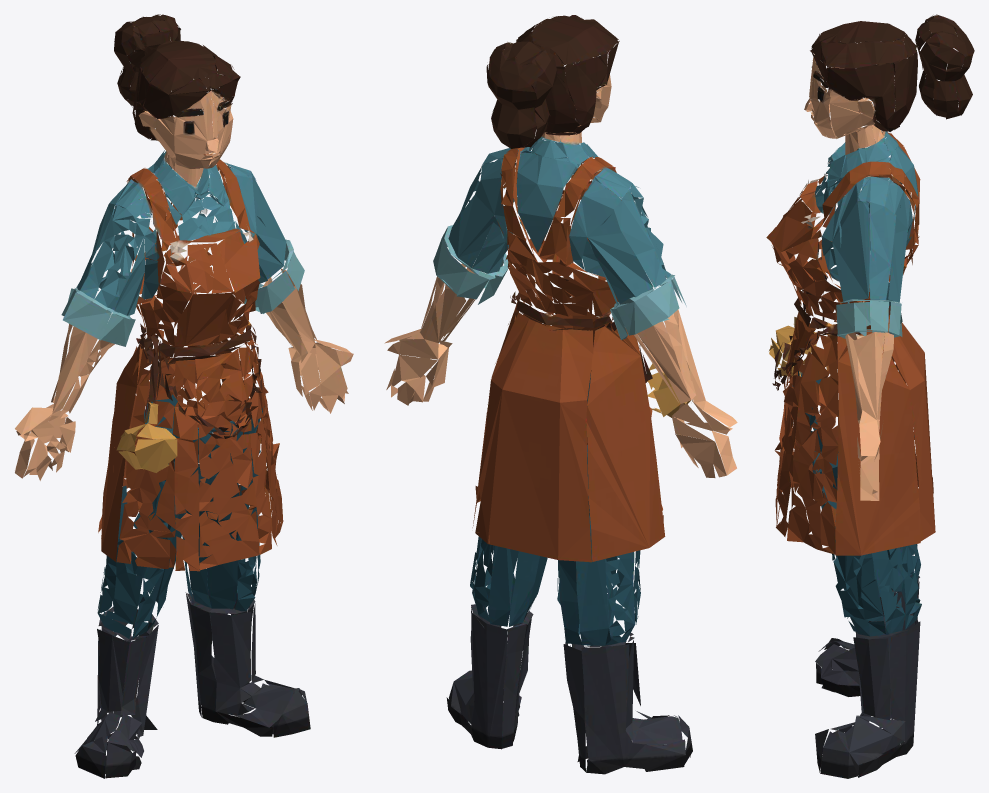
Rendered from habitant.glb.
3 views of the same model, side by side, from view 1: azimuth 30°, elevation 25°; view 2: azimuth 150°, elevation 25°; view 3: azimuth 270°, elevation 25° (orthographic). The views are drawn at different scales.
Parts seen in each view (by area): view 1: world; view 2: world; view 3: world.
Part boxes in pixels (left/top/right/bottom): world: left=15, top=14, right=353, bottom=778; world: left=384, top=15, right=737, bottom=774; world: left=766, top=14, right=974, bottom=778.
Size of the model in its own units: 0.5018 by 1.01 by 0.2697.
Materials: 1 (1 with a texture image).
